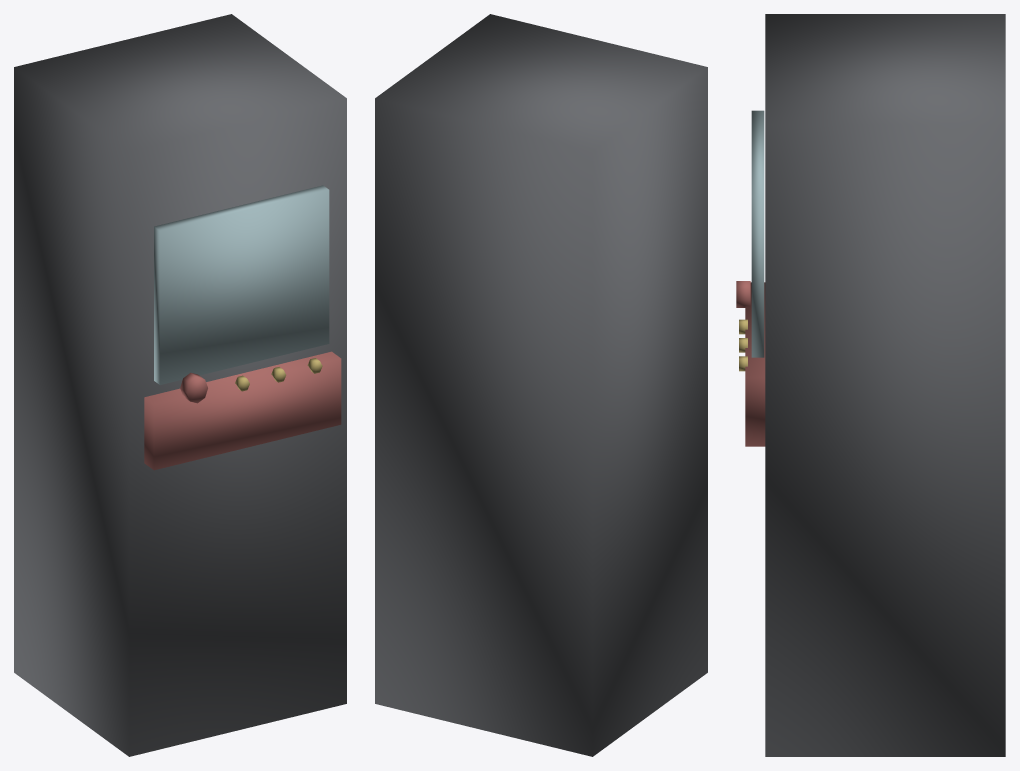
File: arcade_cabinet__tall.glb
The picture shows the model from 3 angles, left to right: view 1: azimuth 30°, elevation 25°; view 2: azimuth 150°, elevation 25°; view 3: azimuth 270°, elevation 25°; orthographic projection. The views are drawn at different scales.
Parts seen in each view (by area): view 1: world; view 2: world; view 3: world.
Boxes of the visible parts, box(x1,y1,x2,y2) form: world: box(14, 14, 346, 756); world: box(375, 14, 707, 756); world: box(736, 14, 1005, 756).
Bounding box in the file's own units: 0.72 × 1.91 × 0.74.
